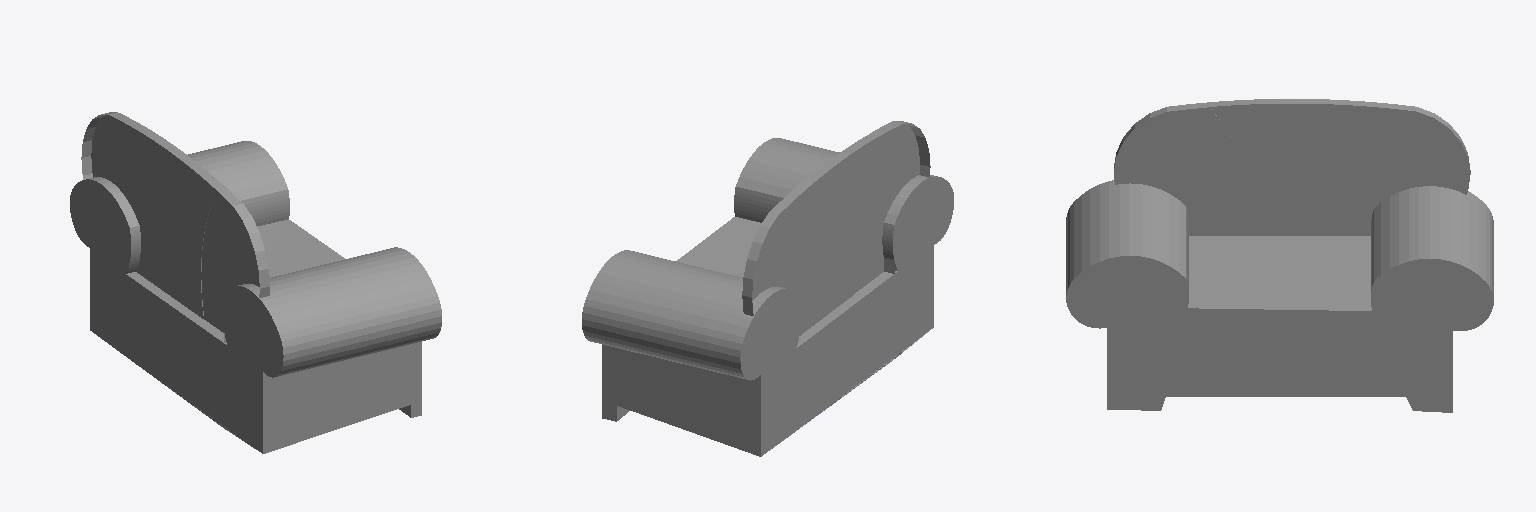
3 renders of one model, left to right at view 1: azimuth 30°, elevation 25°; view 2: azimuth 150°, elevation 25°; view 3: azimuth 270°, elevation 25°, orthographic.
Parts seen in each view (by area): view 1: SketchUp.001_ID10, SketchUp.005_ID54, SketchUp.002_ID23; view 2: SketchUp.001_ID10, SketchUp.005_ID54, SketchUp.002_ID23; view 3: SketchUp.001_ID10, SketchUp.005_ID54, SketchUp.002_ID23, SketchUp.013_ID124, SketchUp.009_ID87.
Boxes of the visible parts, <box> form: SketchUp.001_ID10: <box>70,112,441,453</box>; SketchUp.005_ID54: <box>257,219,344,277</box>; SketchUp.002_ID23: <box>118,117,233,315</box>; SketchUp.001_ID10: <box>582,121,953,456</box>; SketchUp.005_ID54: <box>676,217,761,277</box>; SketchUp.002_ID23: <box>778,126,893,205</box>; SketchUp.001_ID10: <box>1066,104,1493,396</box>; SketchUp.005_ID54: <box>1179,236,1381,330</box>; SketchUp.002_ID23: <box>1186,99,1397,185</box>; SketchUp.013_ID124: <box>1107,397,1165,410</box>; SketchUp.009_ID87: <box>1406,397,1452,412</box>.
Size of the model in its own units: 0.3434 by 0.4902 by 0.8011.